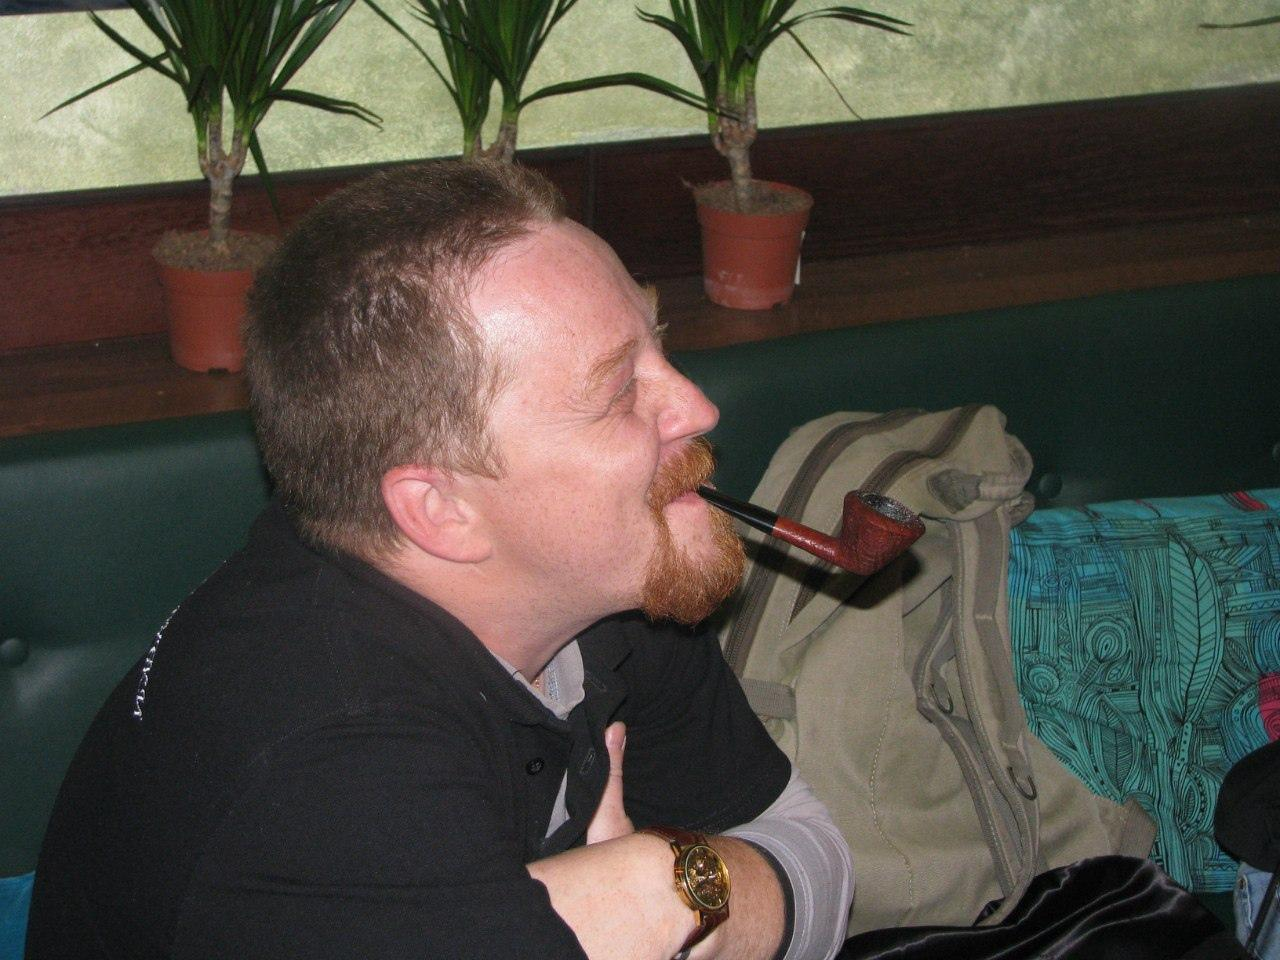trubka: (695, 485, 925, 575)
